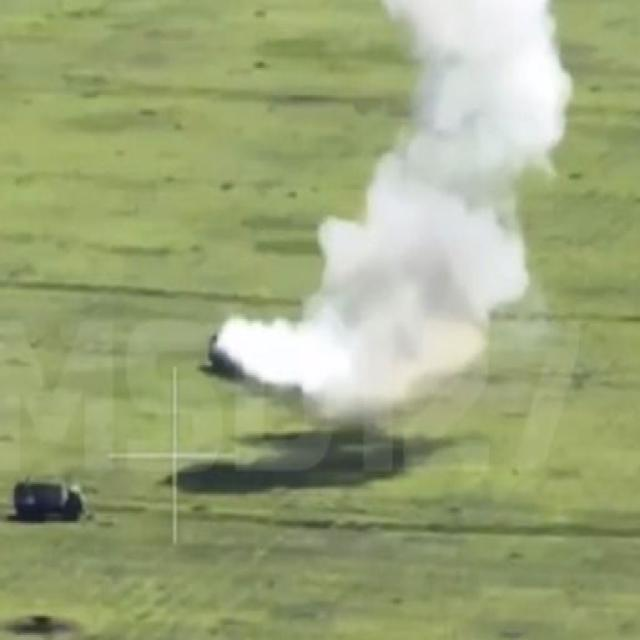Vehicle: (14, 480, 87, 523)
